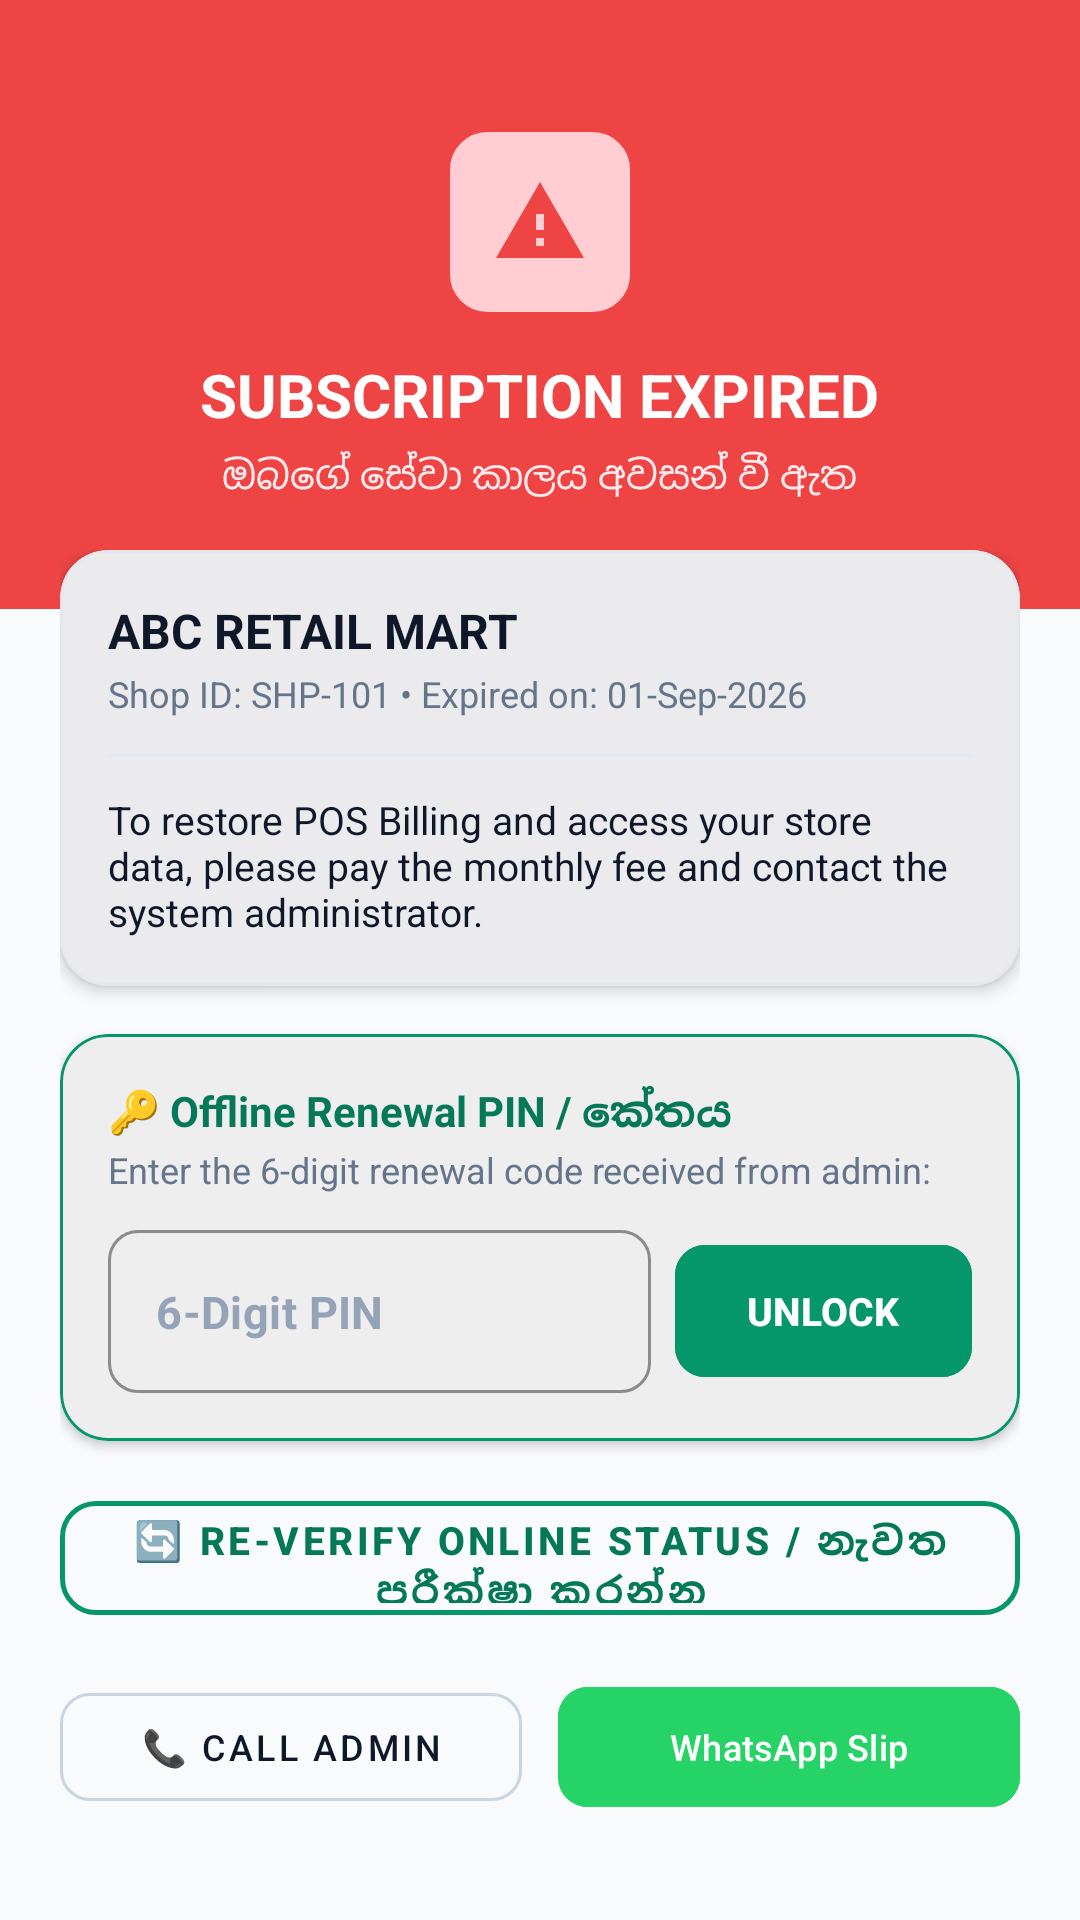

Icons on this 1080×1920 Android screen, each with the point to tap as [x,y]:
warning: [540,222]
